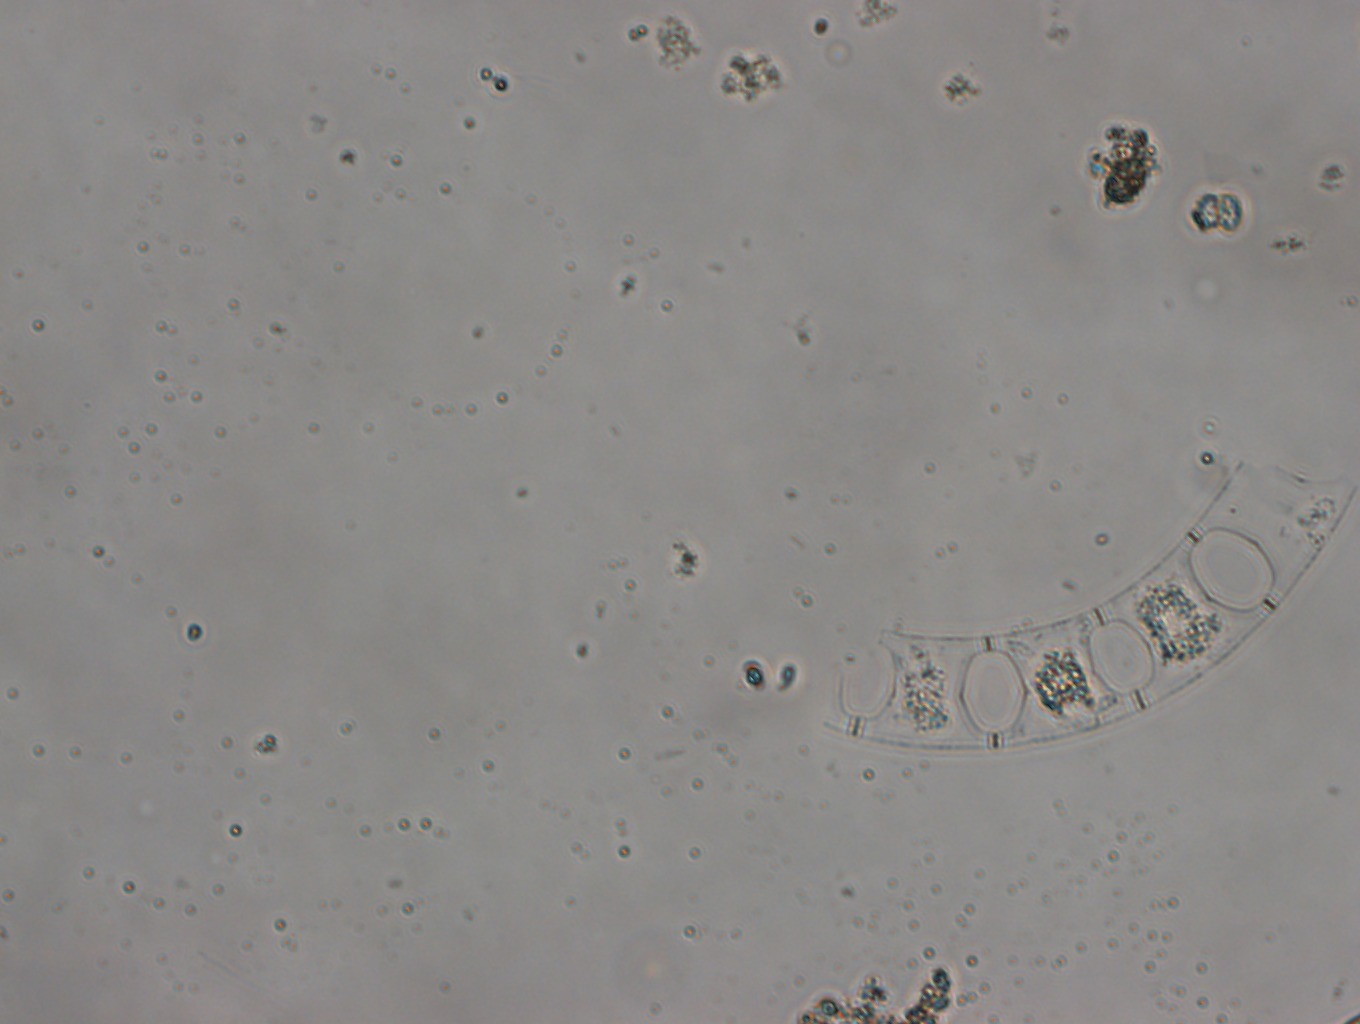eucampia: (821, 460, 1357, 750)
